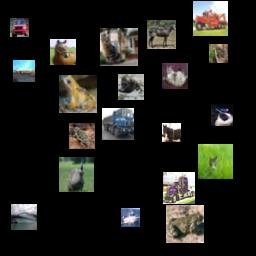airplane: (13, 60, 35, 82)
automobile: (10, 18, 29, 37)
bird: (59, 157, 94, 192), (211, 104, 233, 126)
cat: (100, 28, 138, 66), (198, 144, 233, 179), (162, 63, 188, 89), (118, 74, 144, 100), (209, 44, 228, 63)
frog: (166, 205, 204, 243), (59, 75, 97, 113), (69, 123, 95, 149)
ship: (11, 204, 37, 230), (121, 208, 140, 227)
truck: (193, 1, 228, 36), (163, 172, 195, 204), (102, 108, 134, 140)
